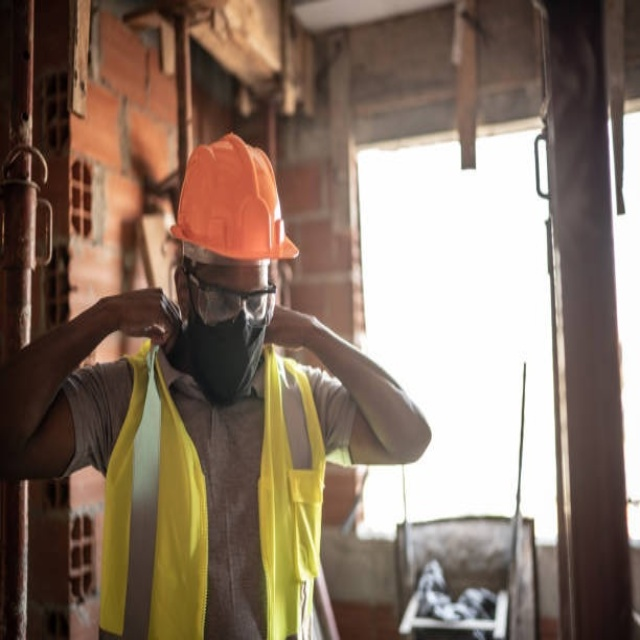Gafas: (181, 259, 278, 327)
Mascara: (174, 277, 272, 405)
Sin_guantes: (110, 286, 182, 357)
